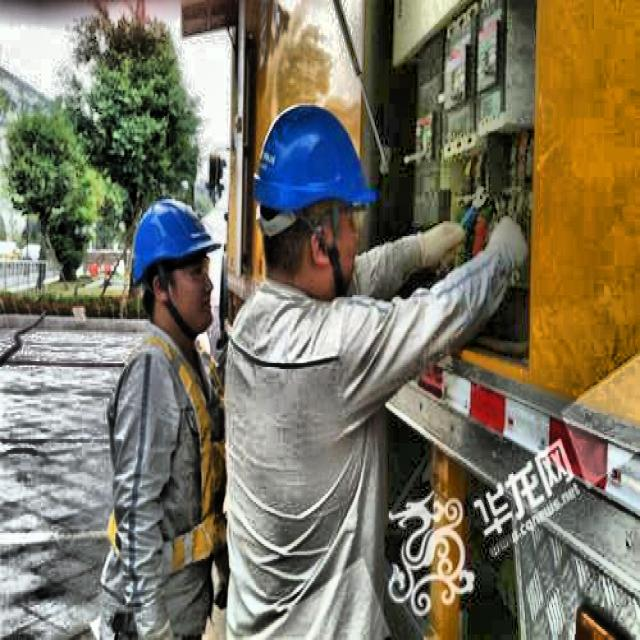helmet: (243, 81, 380, 306), (120, 182, 224, 346)
